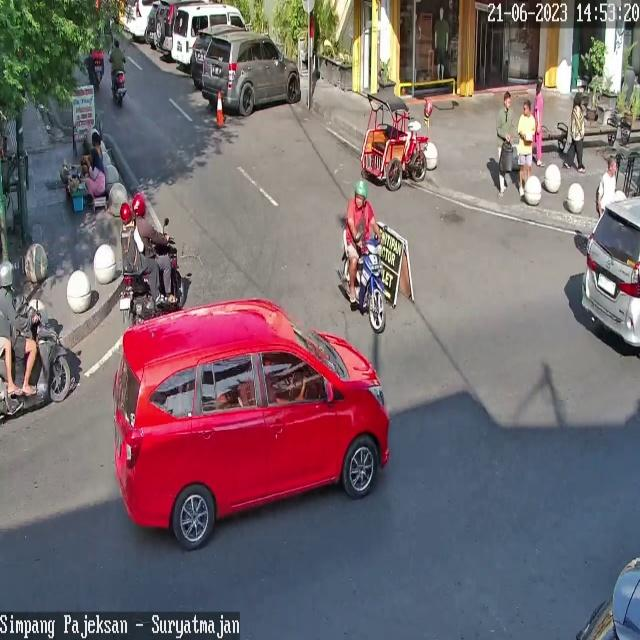bus: (0, 307, 72, 414), (121, 230, 185, 323), (339, 224, 388, 334), (111, 70, 128, 107), (90, 58, 104, 88)
motorcycle: (113, 298, 391, 551), (580, 196, 640, 348), (203, 31, 300, 115), (172, 4, 247, 64), (190, 28, 213, 83), (154, 0, 175, 54), (124, 0, 151, 35)
